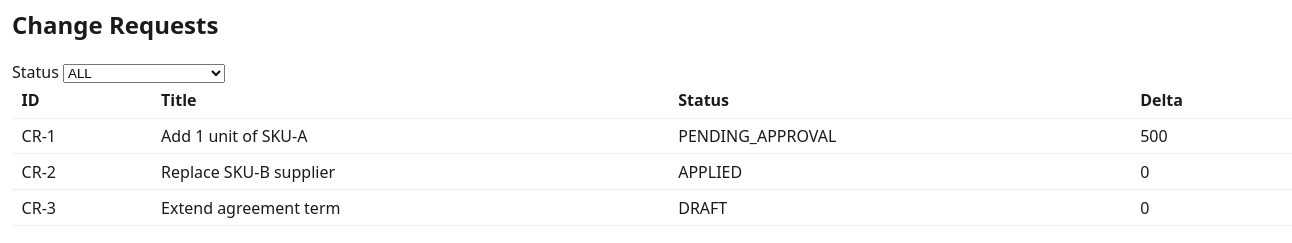
Scenario: CrListComponent — states and filter › renders zero rows when the filter matches nothing
Select "REJECTED" in the dropdown with class "cr-list__filter" at (144, 73), box x1=63 y1=64 x2=225 y2=83
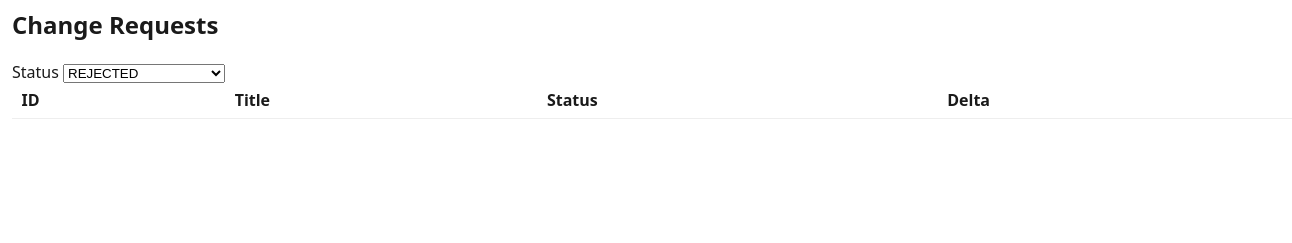
Check: the table with class "cr-list__table" is shown, box x1=12 y1=83 x2=1291 y2=119
Check: no rows with class "cr-list__row" are shown
